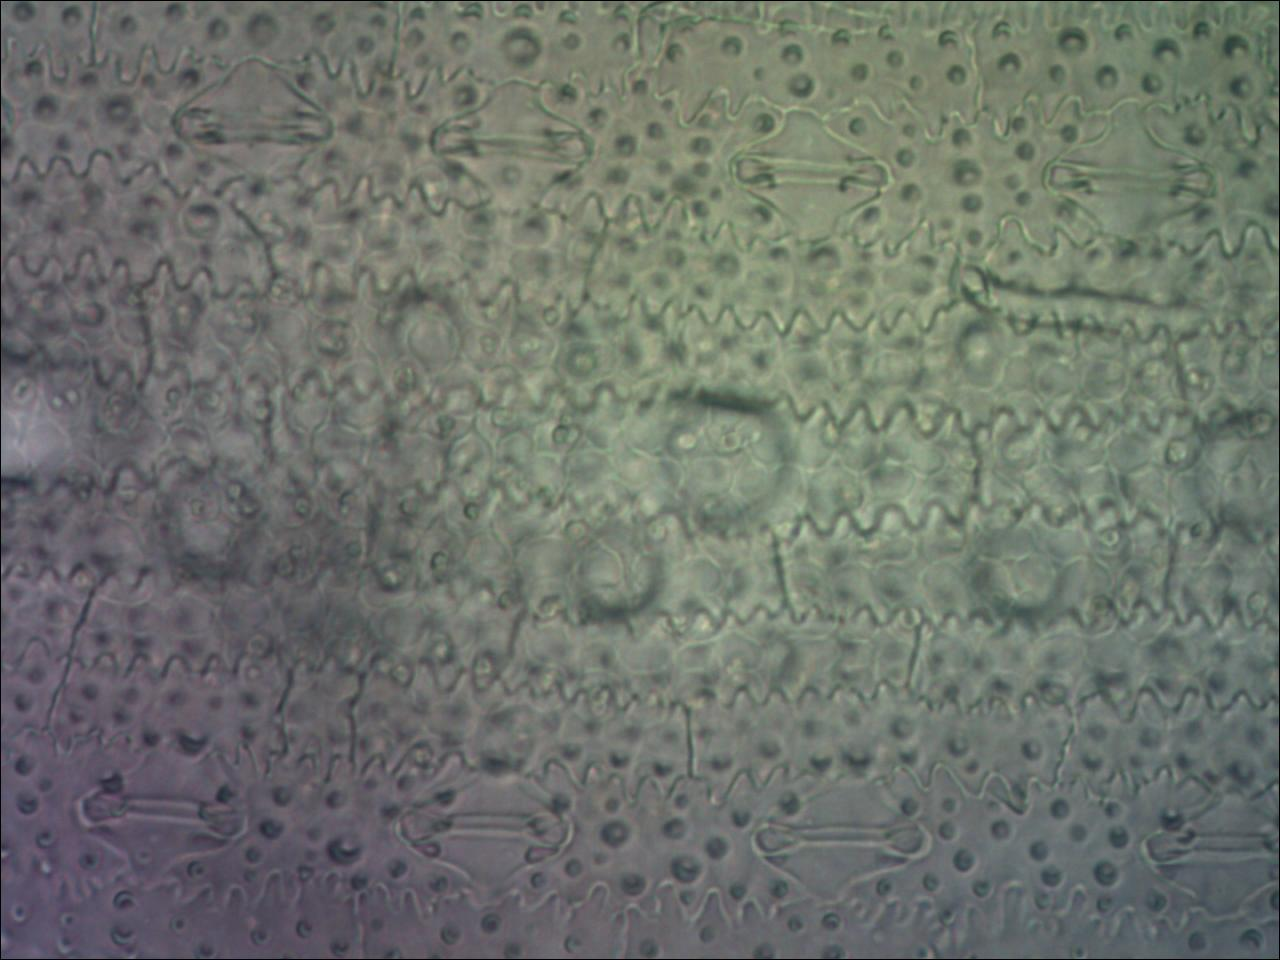stoma: (78, 735, 251, 896), (390, 753, 579, 897), (1032, 104, 1218, 246), (757, 759, 932, 910), (422, 69, 592, 221), (718, 103, 893, 246), (166, 50, 335, 199), (1137, 783, 1280, 914)
